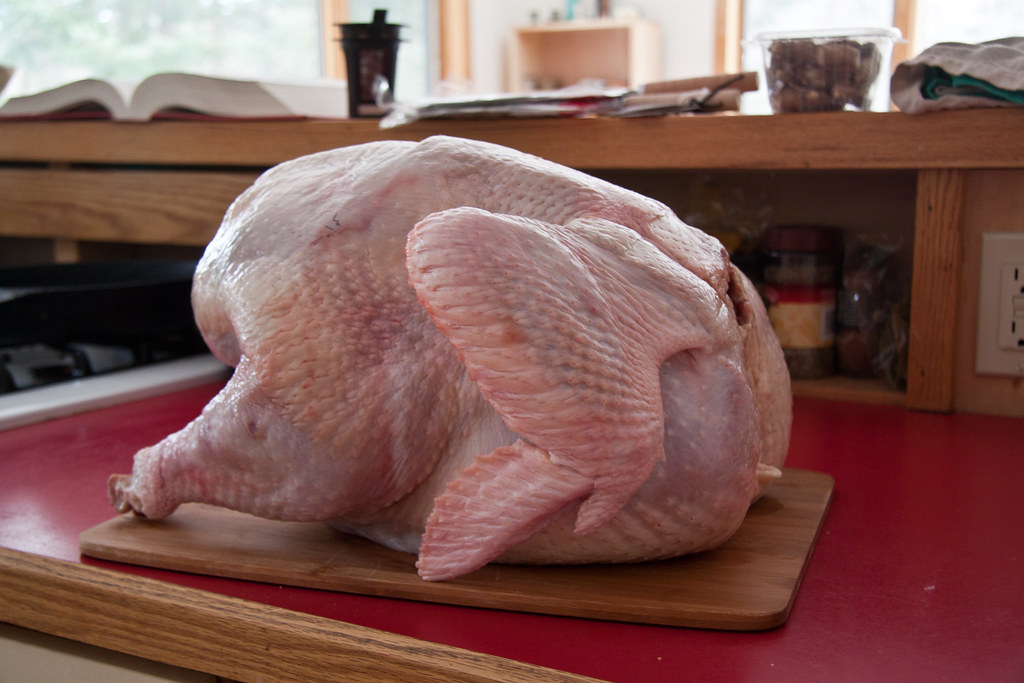Turkey: (106, 135, 798, 610)
